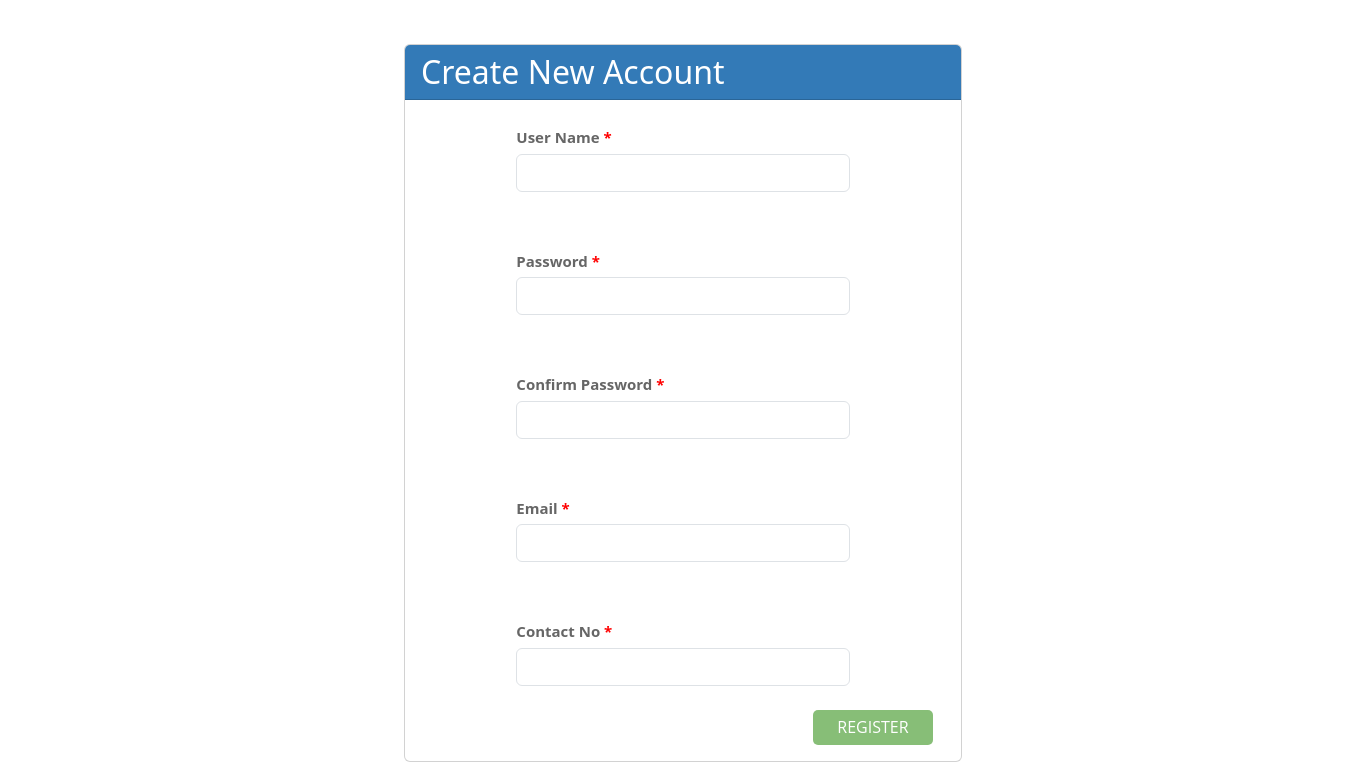
Test: CreateUser Component › should show error message when create user has failed
Type "MICHEAL" into the field named "User Name" at {"x": 683, "y": 173}, box [516,154,850,192]
Type "password" into the password field named "Password" at {"x": 683, "y": 296}, box [516,277,850,315]
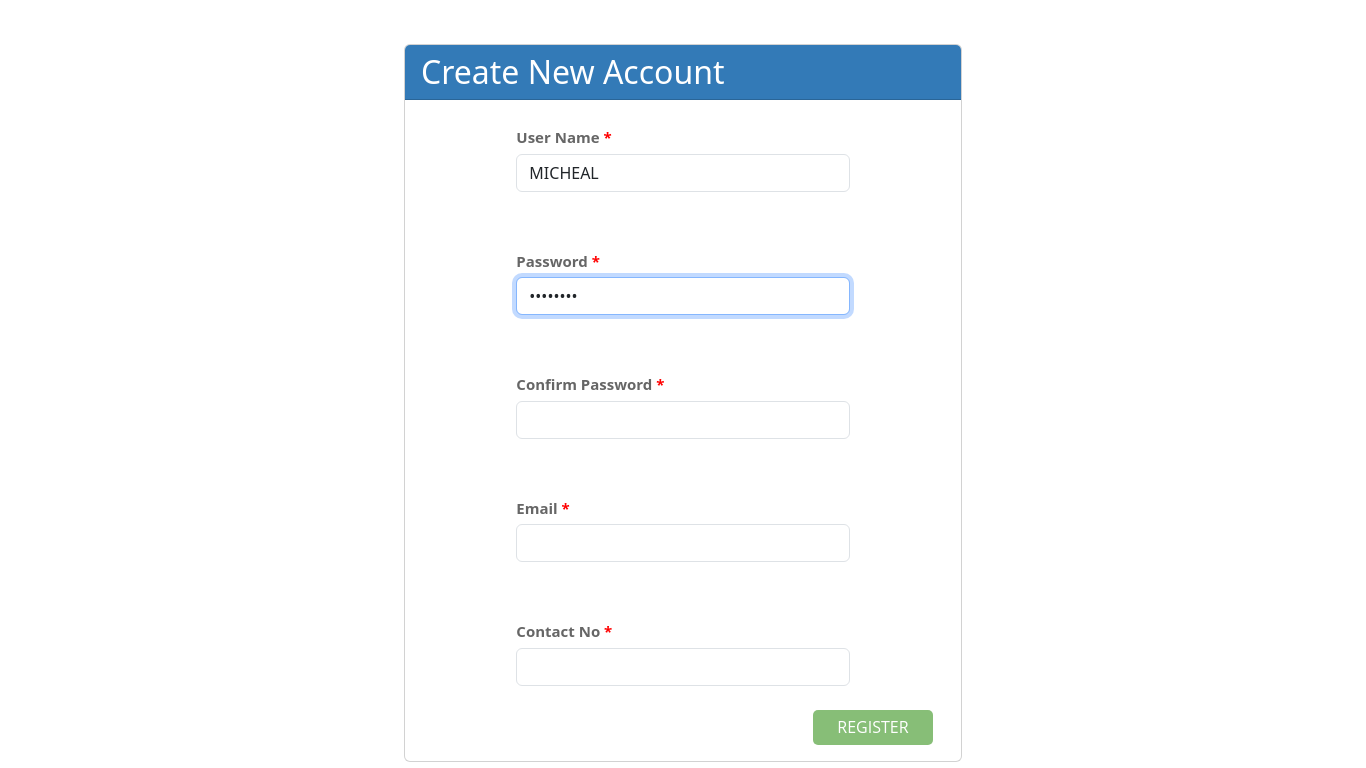
Type "password" into the password field named "Confirm Password" at {"x": 683, "y": 420}, box [516,401,850,439]
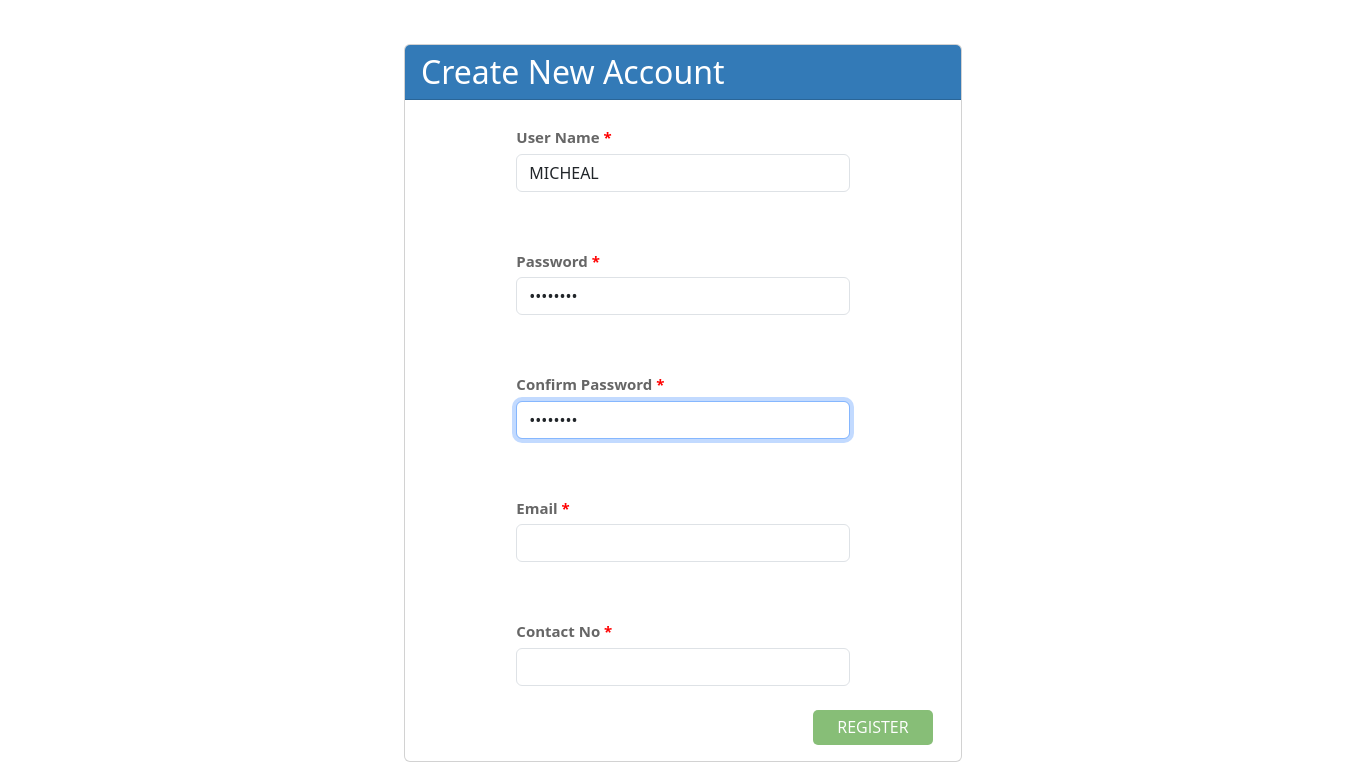
Type "TEST@TEST.COM" into the field named "Email" at {"x": 683, "y": 543}, box [516,524,850,562]
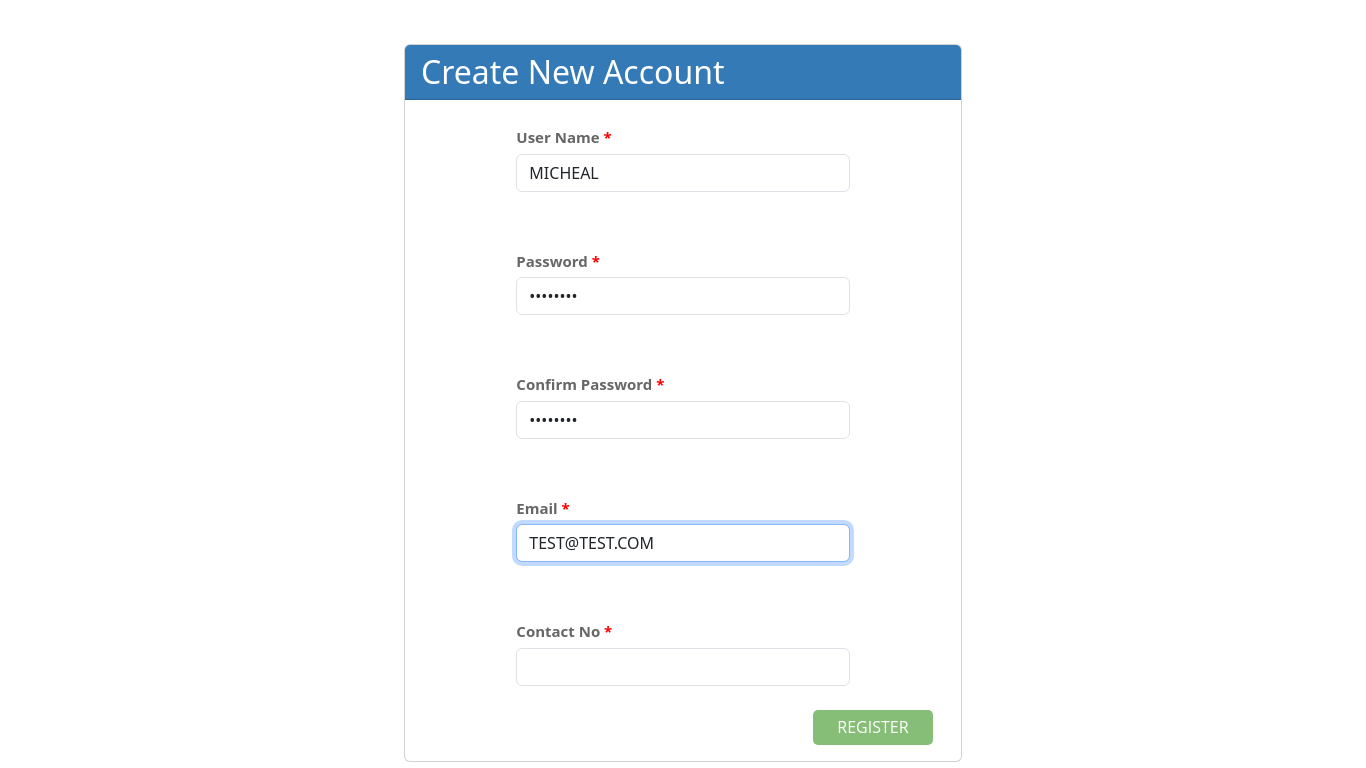
Type "90001111" into the field named "Contact No" at {"x": 683, "y": 667}, box [516,648,850,686]
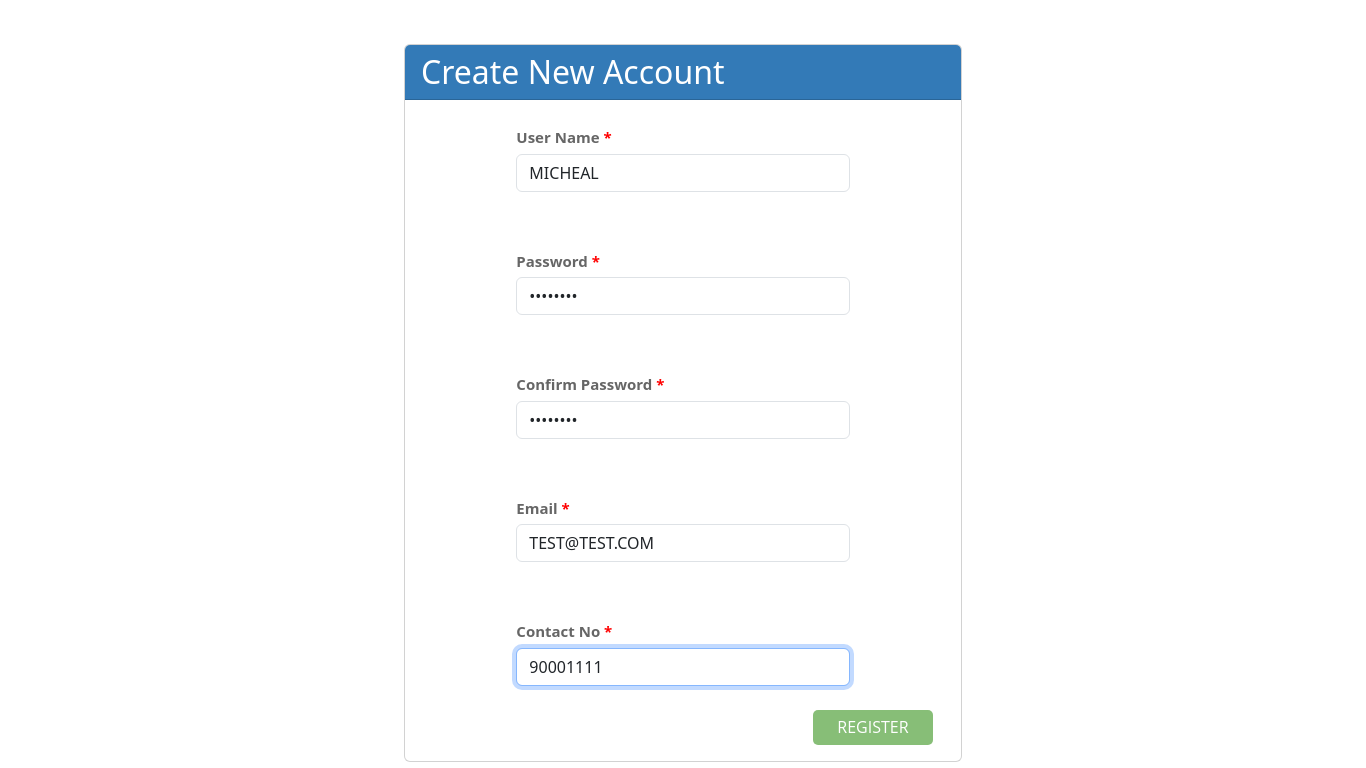
Click the button "Register" at {"x": 873, "y": 727}, box [813,710,933,745]
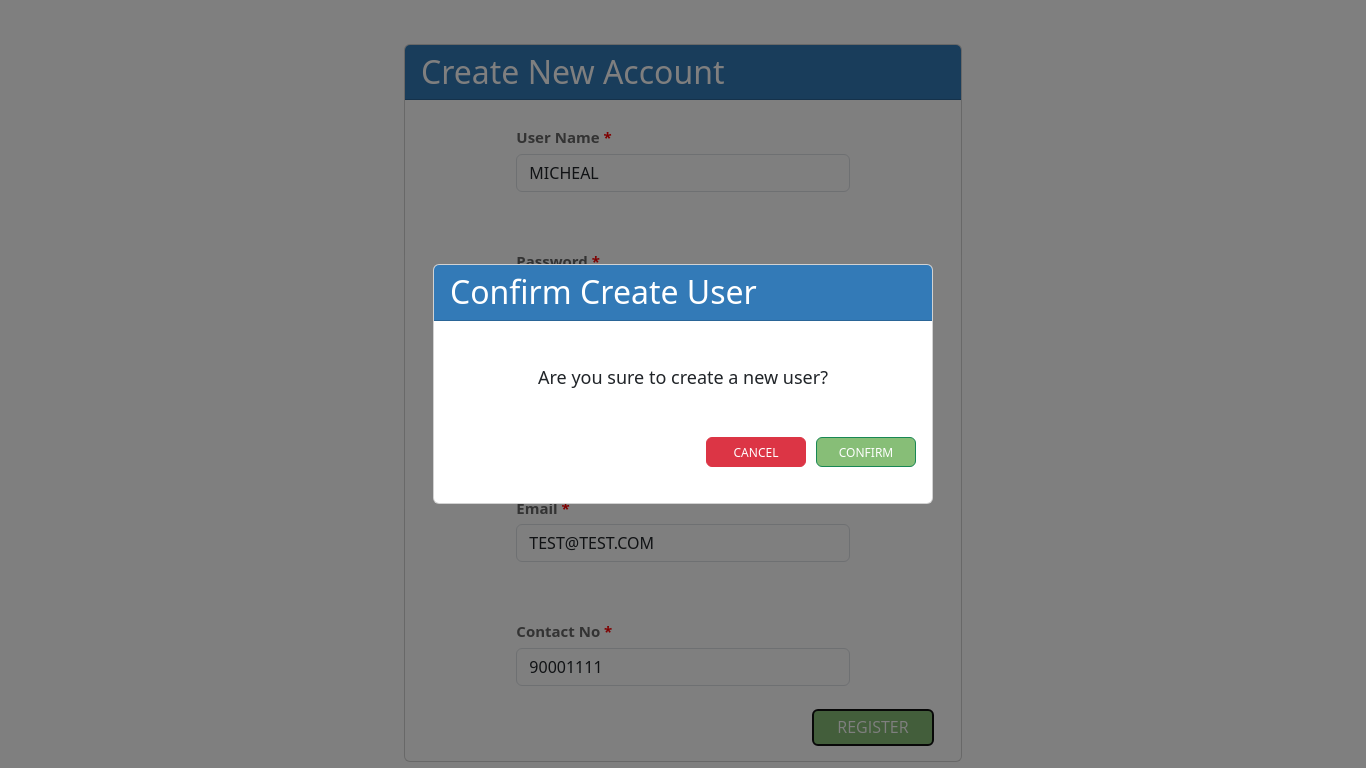
Expected: the heading "Confirm Create User" is shown, [450,270,757,313]
Expected: the text "Are you sure to create a new user?" is shown, [538,365,828,389]
Click the button "Confirm" at {"x": 866, "y": 452}, box [816,437,916,467]
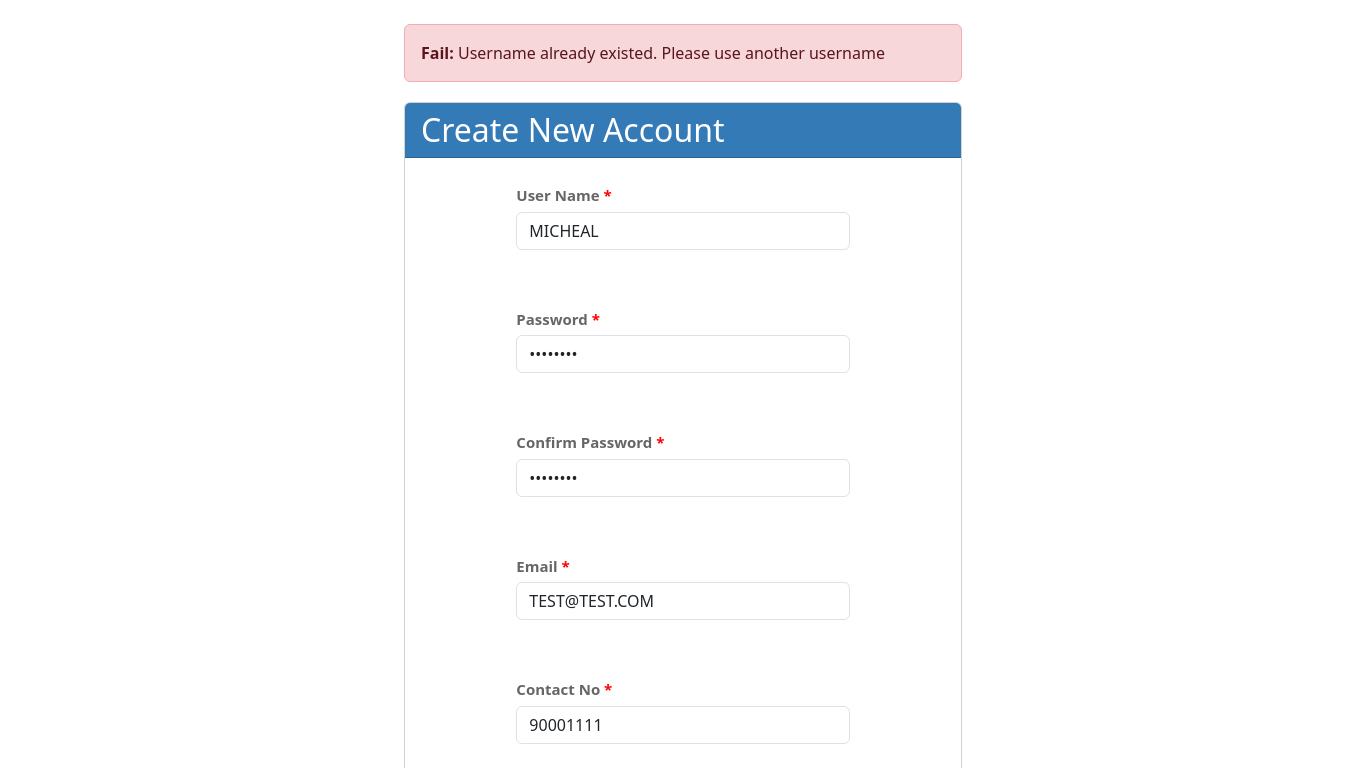
Expected: the text "Fail: Username already existed. Please use another username" is shown, [404,24,962,82]
